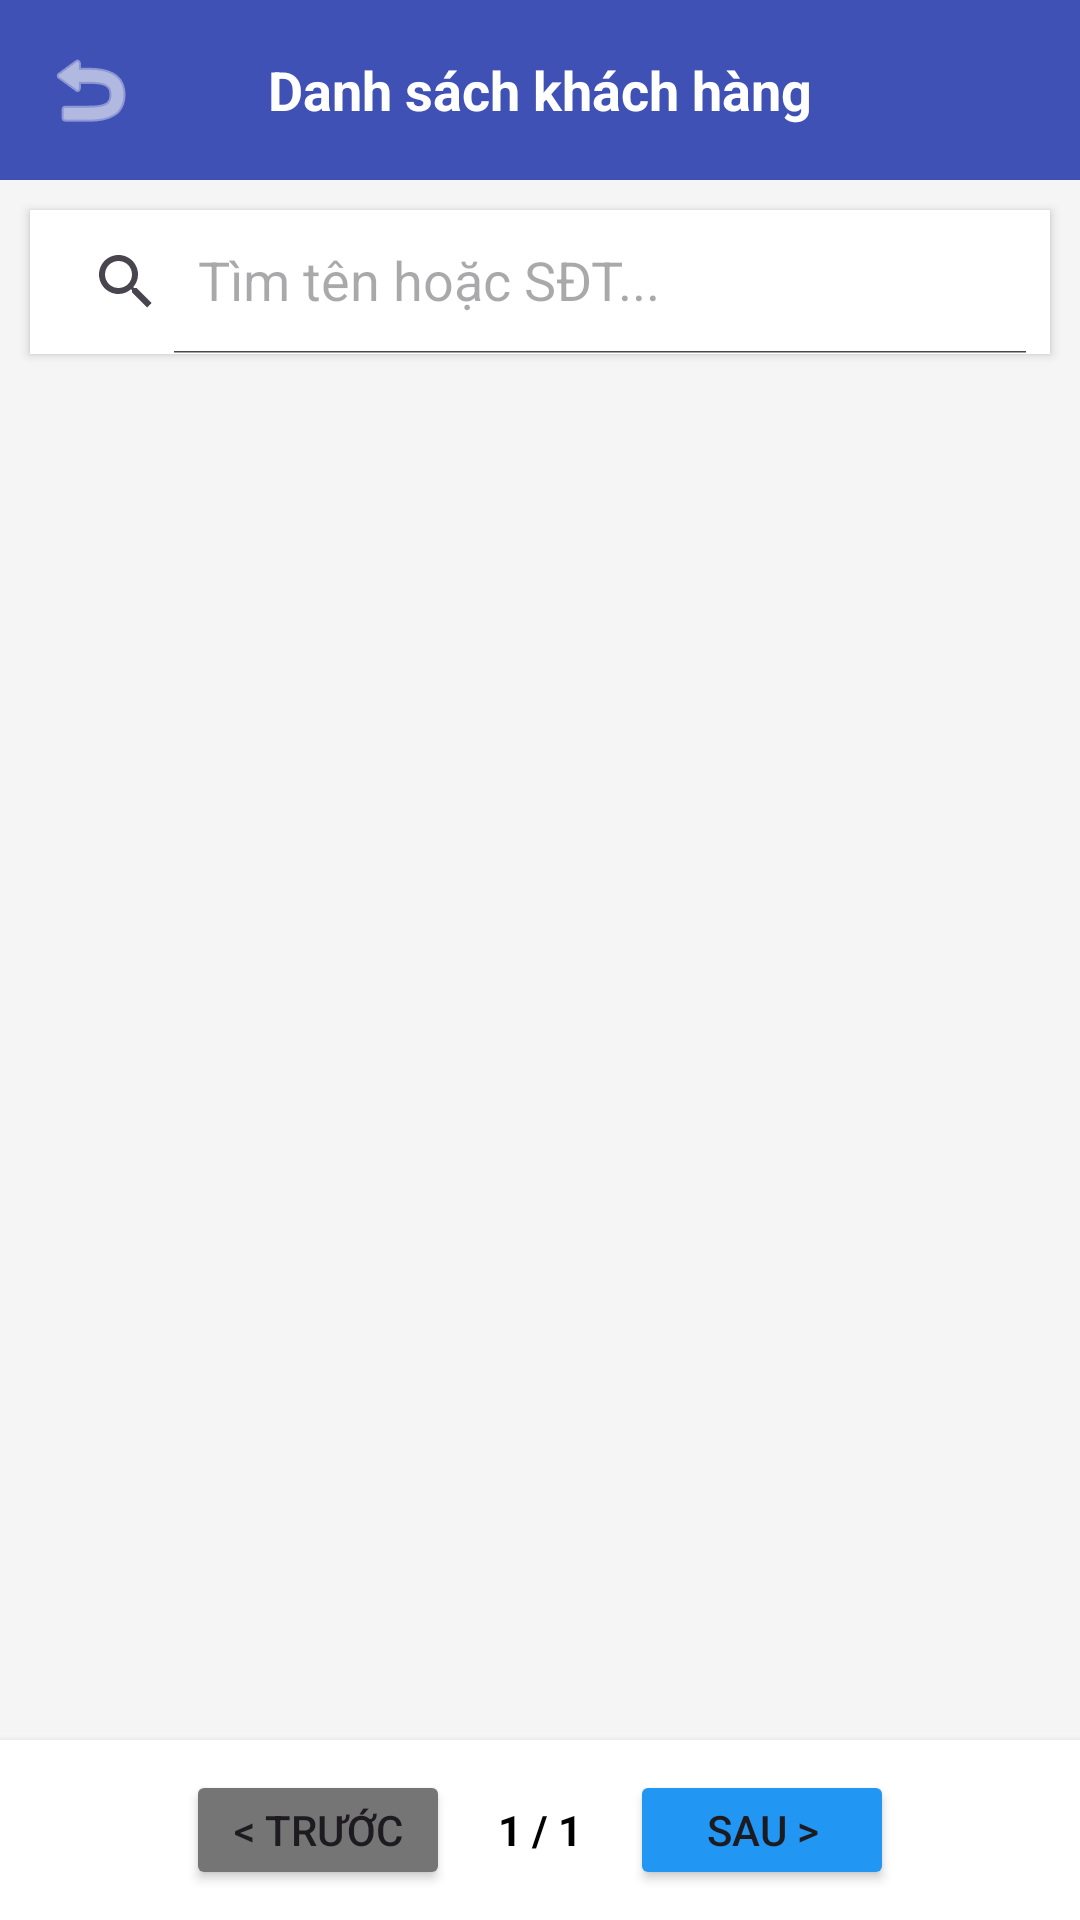

Named icons in this screenshot (1080px×1920px) and their bounding boxes, bbox=(x1, y1, x2, y2):
revert: bbox=(57, 59, 126, 122)
